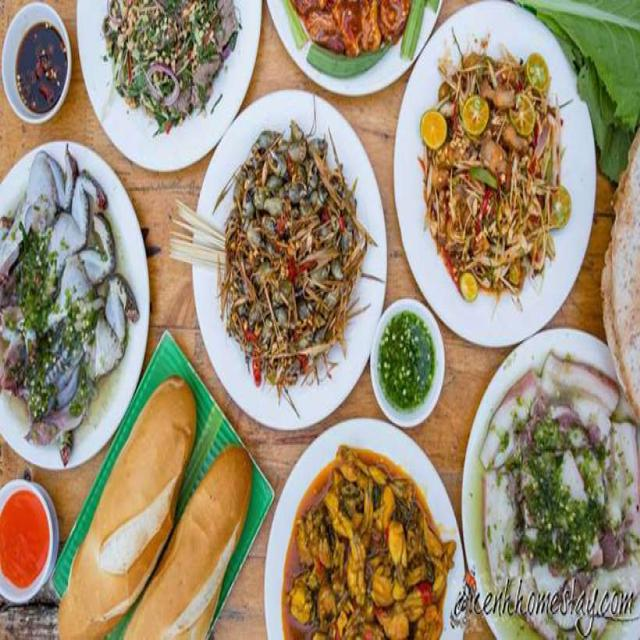banh mi: (59, 381, 252, 633)
ech song: (0, 146, 136, 462)
muc song: (467, 369, 640, 640)
tuong ot: (0, 487, 58, 596)
